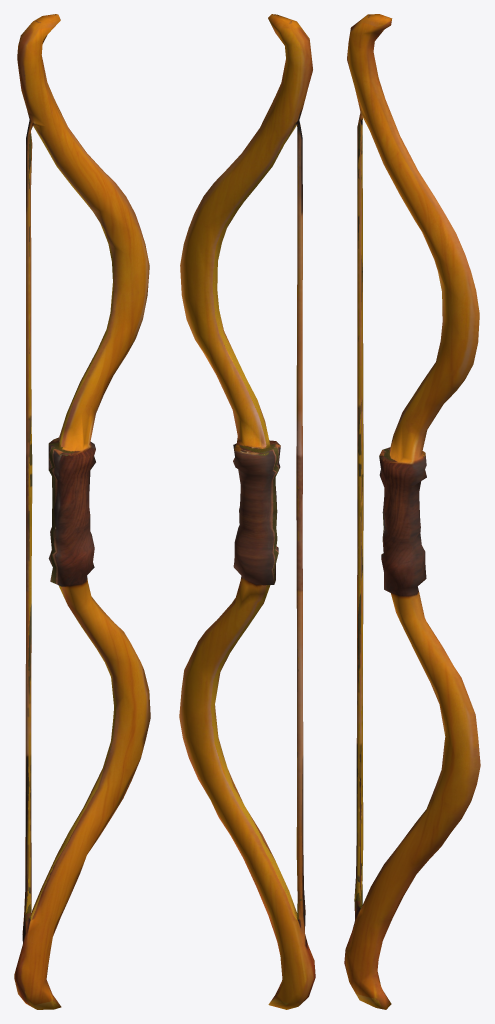
The model's file is arco_curto1_otimizado.glb.
3 views of the same model, side by side, from view 1: azimuth 30°, elevation 25°; view 2: azimuth 150°, elevation 25°; view 3: azimuth 330°, elevation 25° (orthographic).
Bounding box in the file's own units: 0.2859 × 2 × 0.0812.
Materials: 1 (1 with a texture image).
